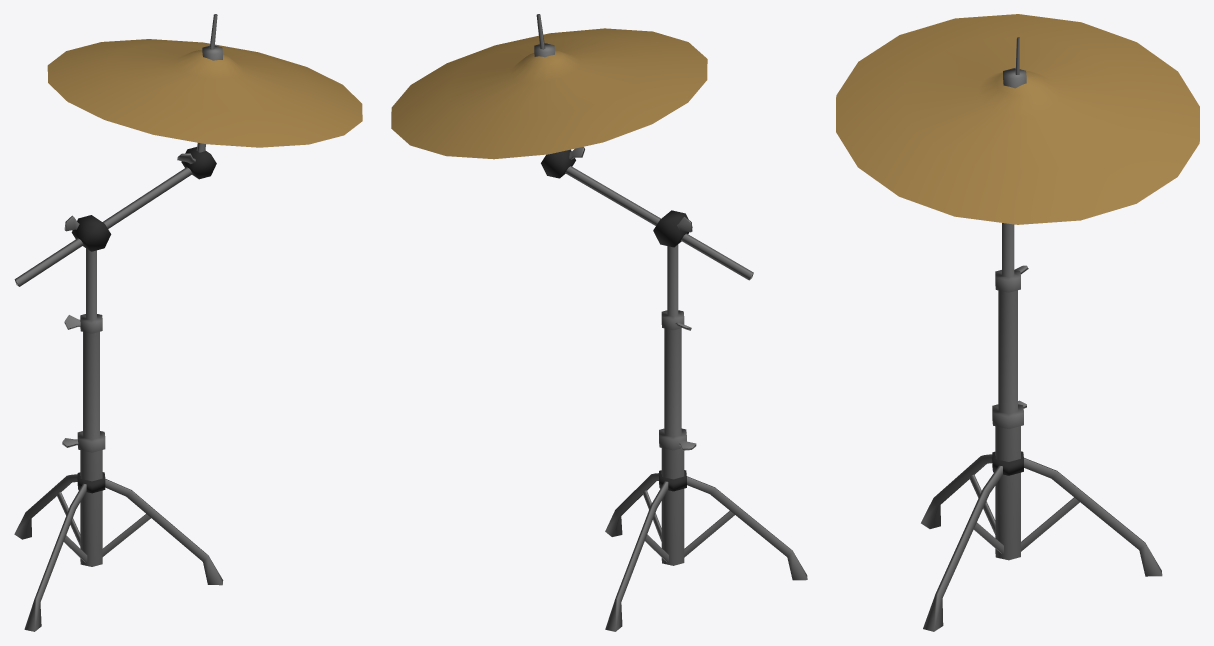
File: DrumKit_ride.fbx
The picture shows the model from 3 angles, left to right: view 1: azimuth 30°, elevation 25°; view 2: azimuth 150°, elevation 25°; view 3: azimuth 270°, elevation 25°; orthographic projection. The views are drawn at different scales.
Visible parts, largest first — view 1: DrumKit_ride; view 2: DrumKit_ride; view 3: DrumKit_ride.
Boxes of the visible parts, x1,y1,x2,y2 form: DrumKit_ride: [14, 14, 362, 631]; DrumKit_ride: [391, 14, 807, 631]; DrumKit_ride: [836, 14, 1199, 631].
Bounding box in the file's own units: 0.8005 × 1.14 × 0.6182.
